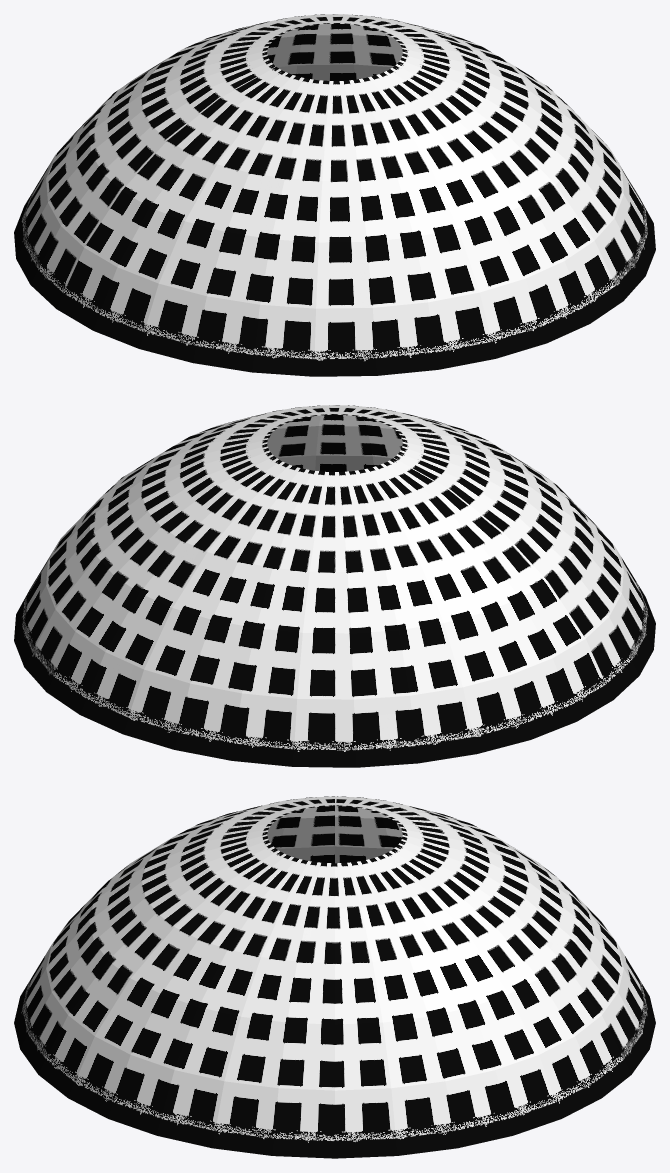
The model's file is gridroom.fbx.
The picture shows the model from 3 angles, top to bottom: view 1: azimuth 30°, elevation 25°; view 2: azimuth 150°, elevation 25°; view 3: azimuth 270°, elevation 25°; orthographic projection.
Visible parts, largest first — view 1: sphere1.002; view 2: sphere1.002; view 3: sphere1.002.
Boxes of the visible parts, x1,y1,x2,y2 form: sphere1.002: (14,14,655,376); sphere1.002: (14,405,655,767); sphere1.002: (14,796,655,1158).
Size of the model in its own units: 3450 by 1117 by 3450.
2 materials, 2 textured.
